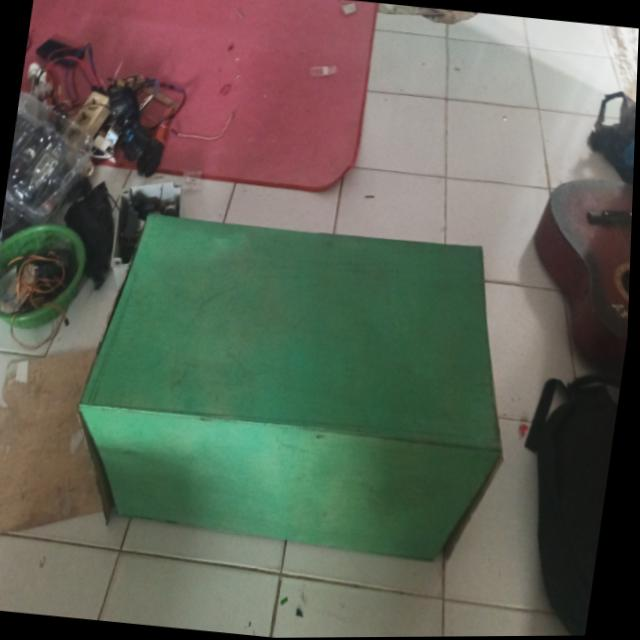green_box: (68, 169, 585, 639)
